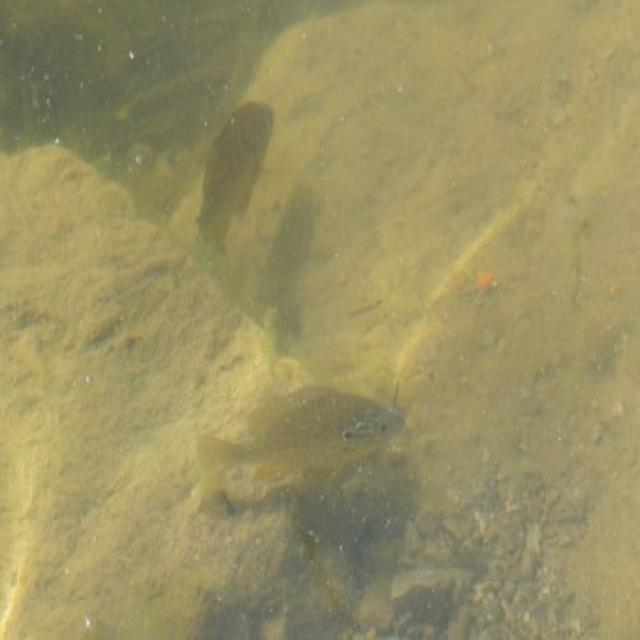Gunes Levregi: (194, 379, 410, 496)
